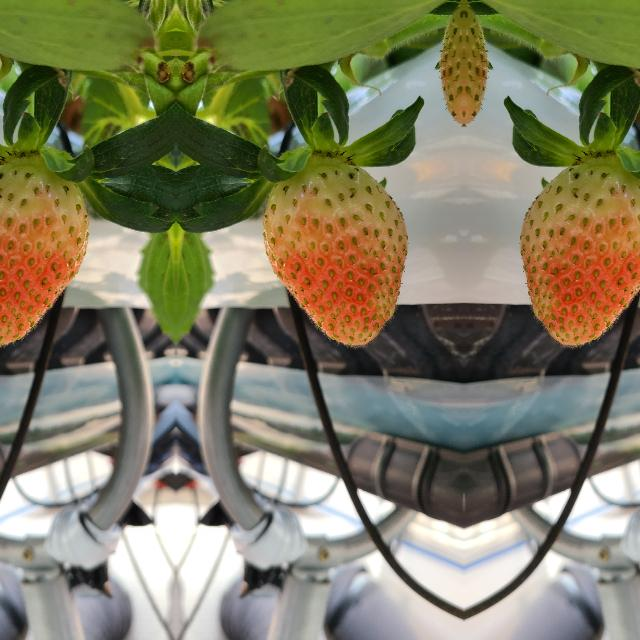Health_50: (260, 153, 408, 349), (518, 153, 640, 349), (0, 153, 90, 349)
